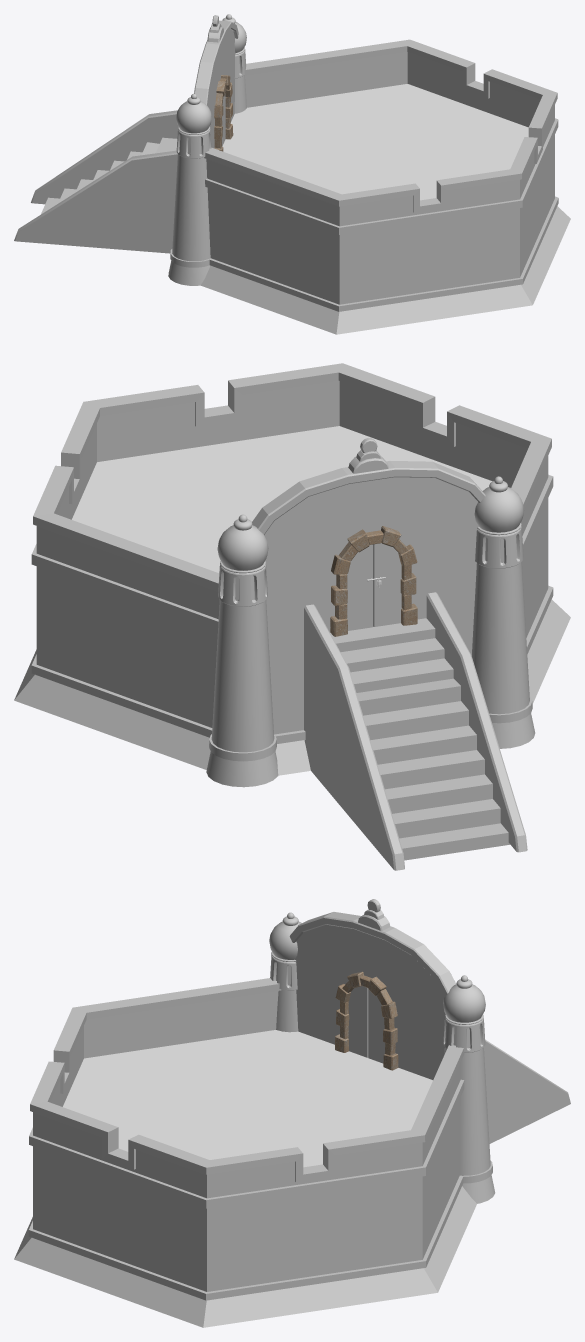
File: Tower2.fbx
3 renders of one model, top to bottom at view 1: azimuth 30°, elevation 25°; view 2: azimuth 150°, elevation 25°; view 3: azimuth 270°, elevation 25°, orthographic. The views are drawn at different scales.
Parts seen in each view (by area): view 1: TowerUnity.001; view 2: TowerUnity.001; view 3: TowerUnity.001.
Boxes of the visible parts, box(x1,y1,x2,y2) form: TowerUnity.001: box(14, 14, 570, 334); TowerUnity.001: box(14, 363, 570, 870); TowerUnity.001: box(14, 899, 570, 1327).
Size of the model in its own units: 2513 by 1207 by 2304.
